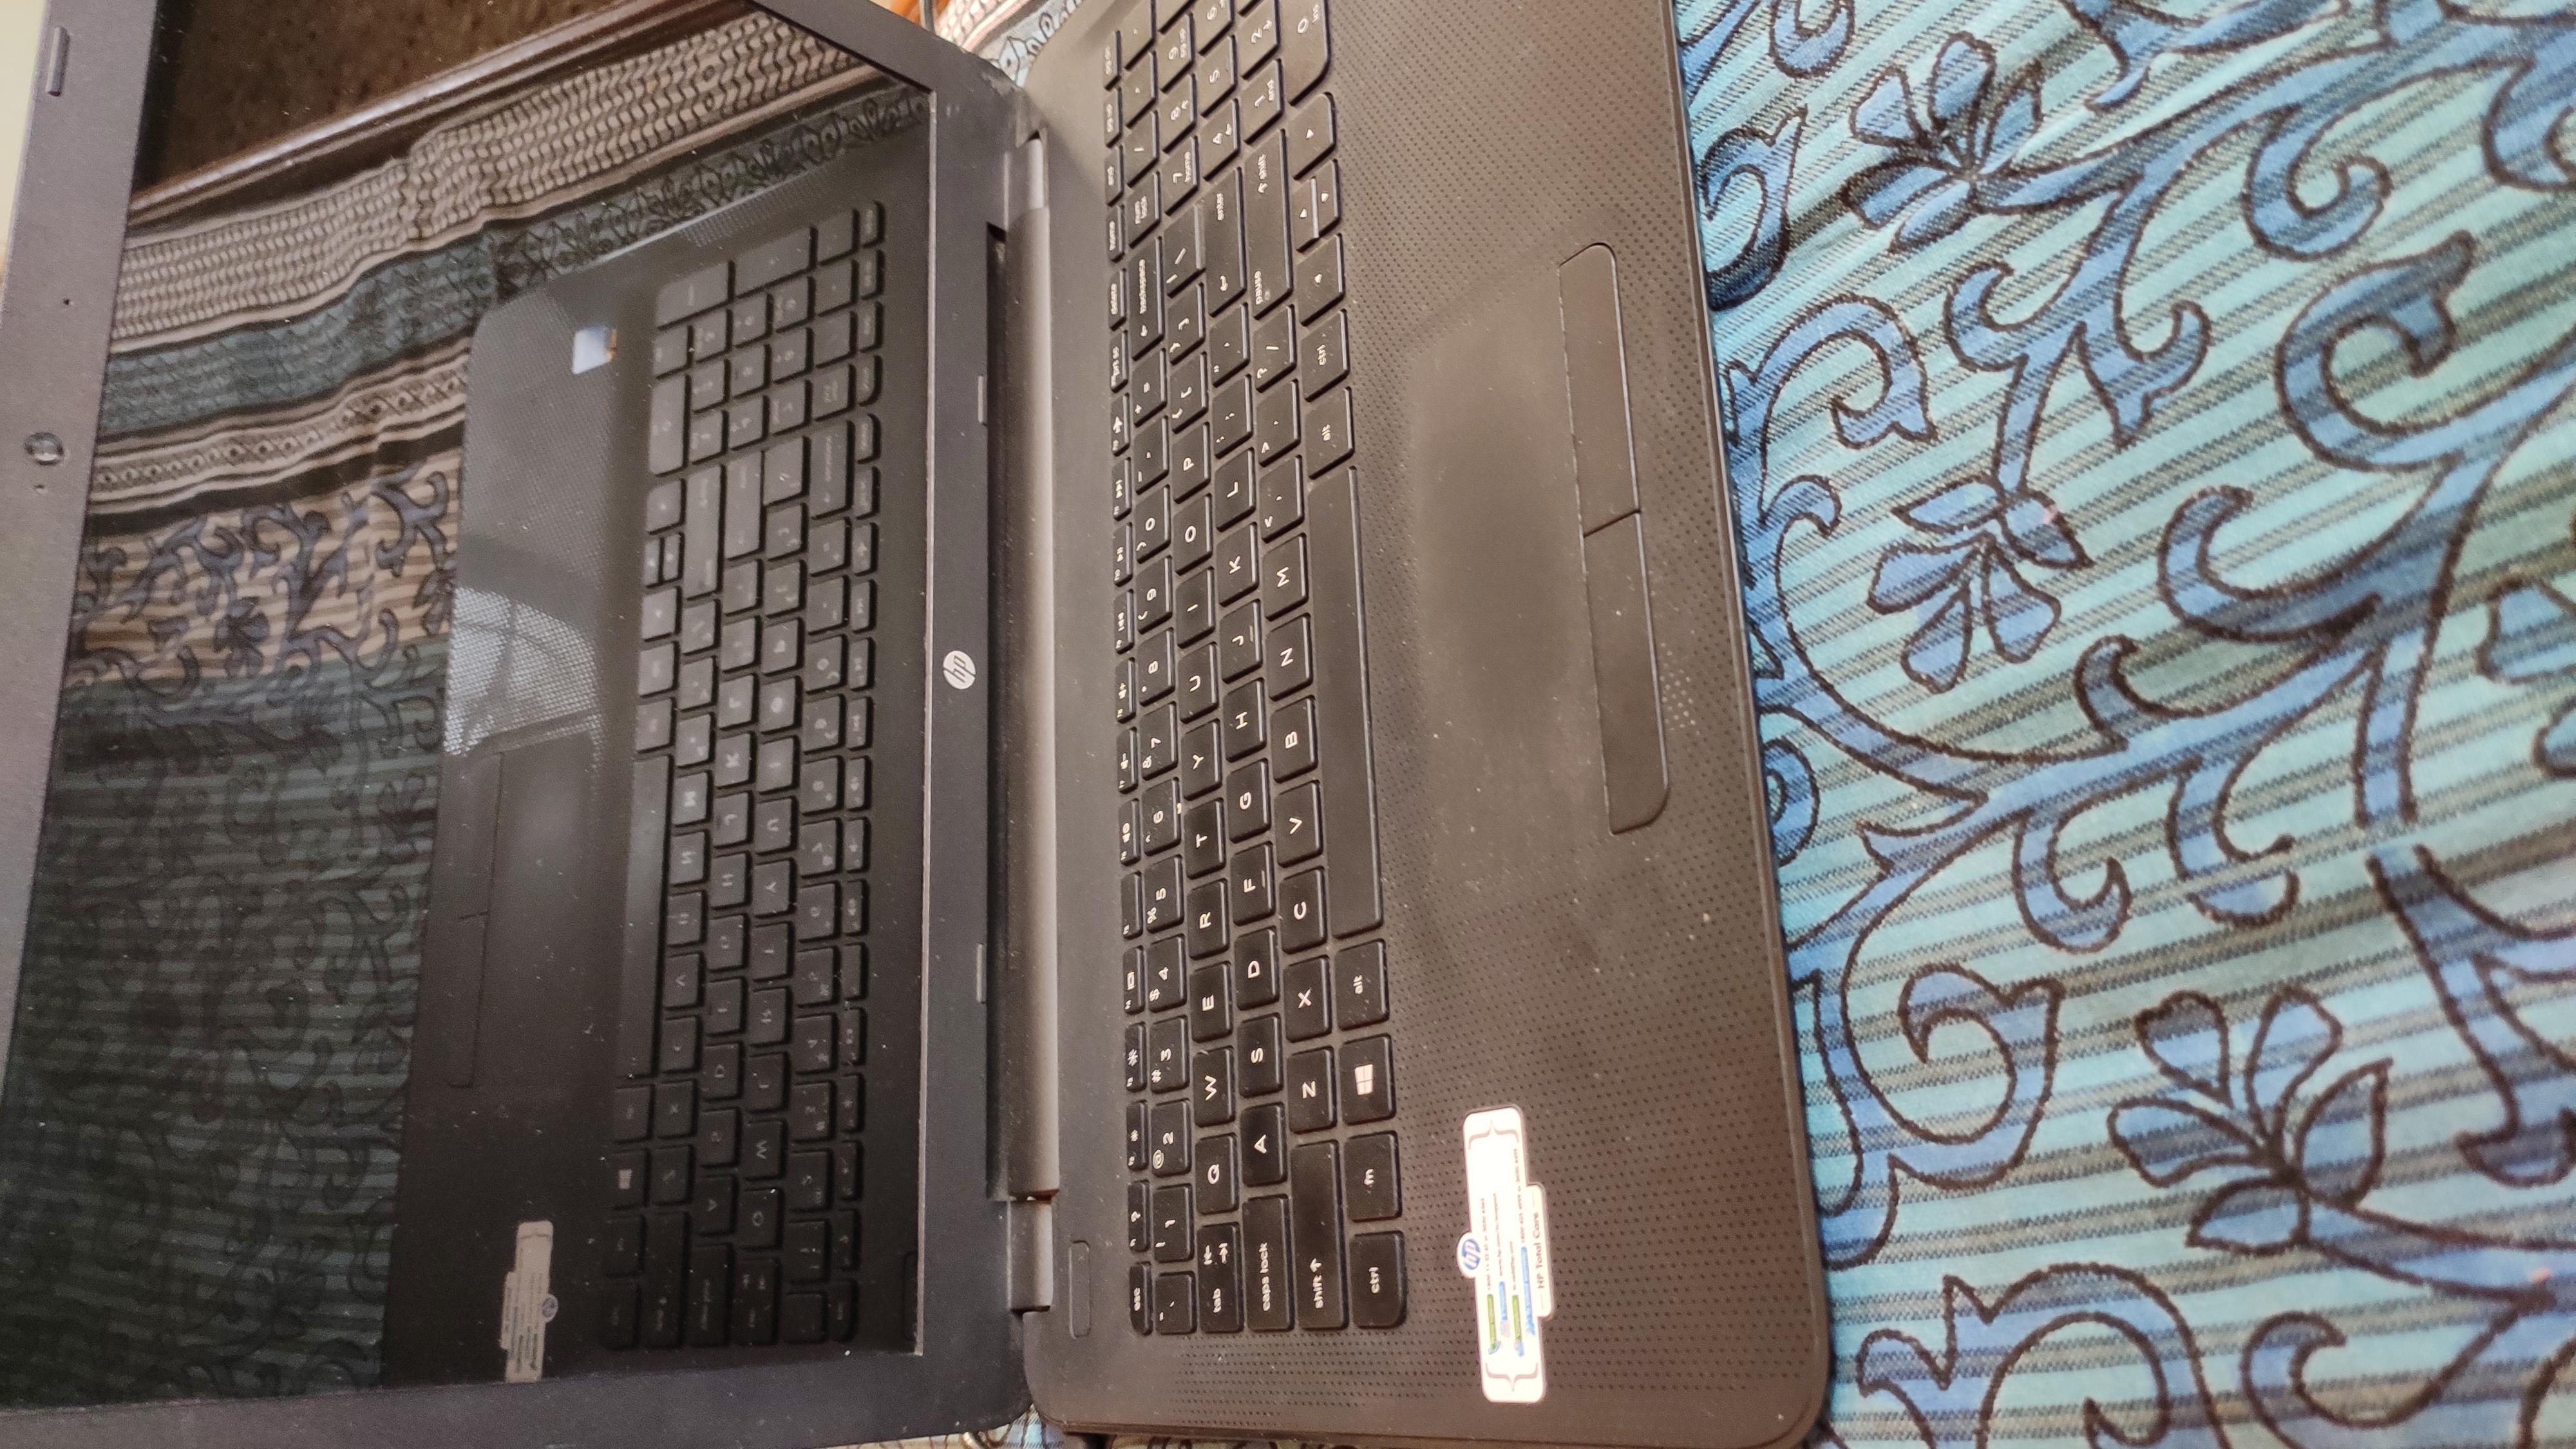laptop: (9, 0, 1856, 1449)
